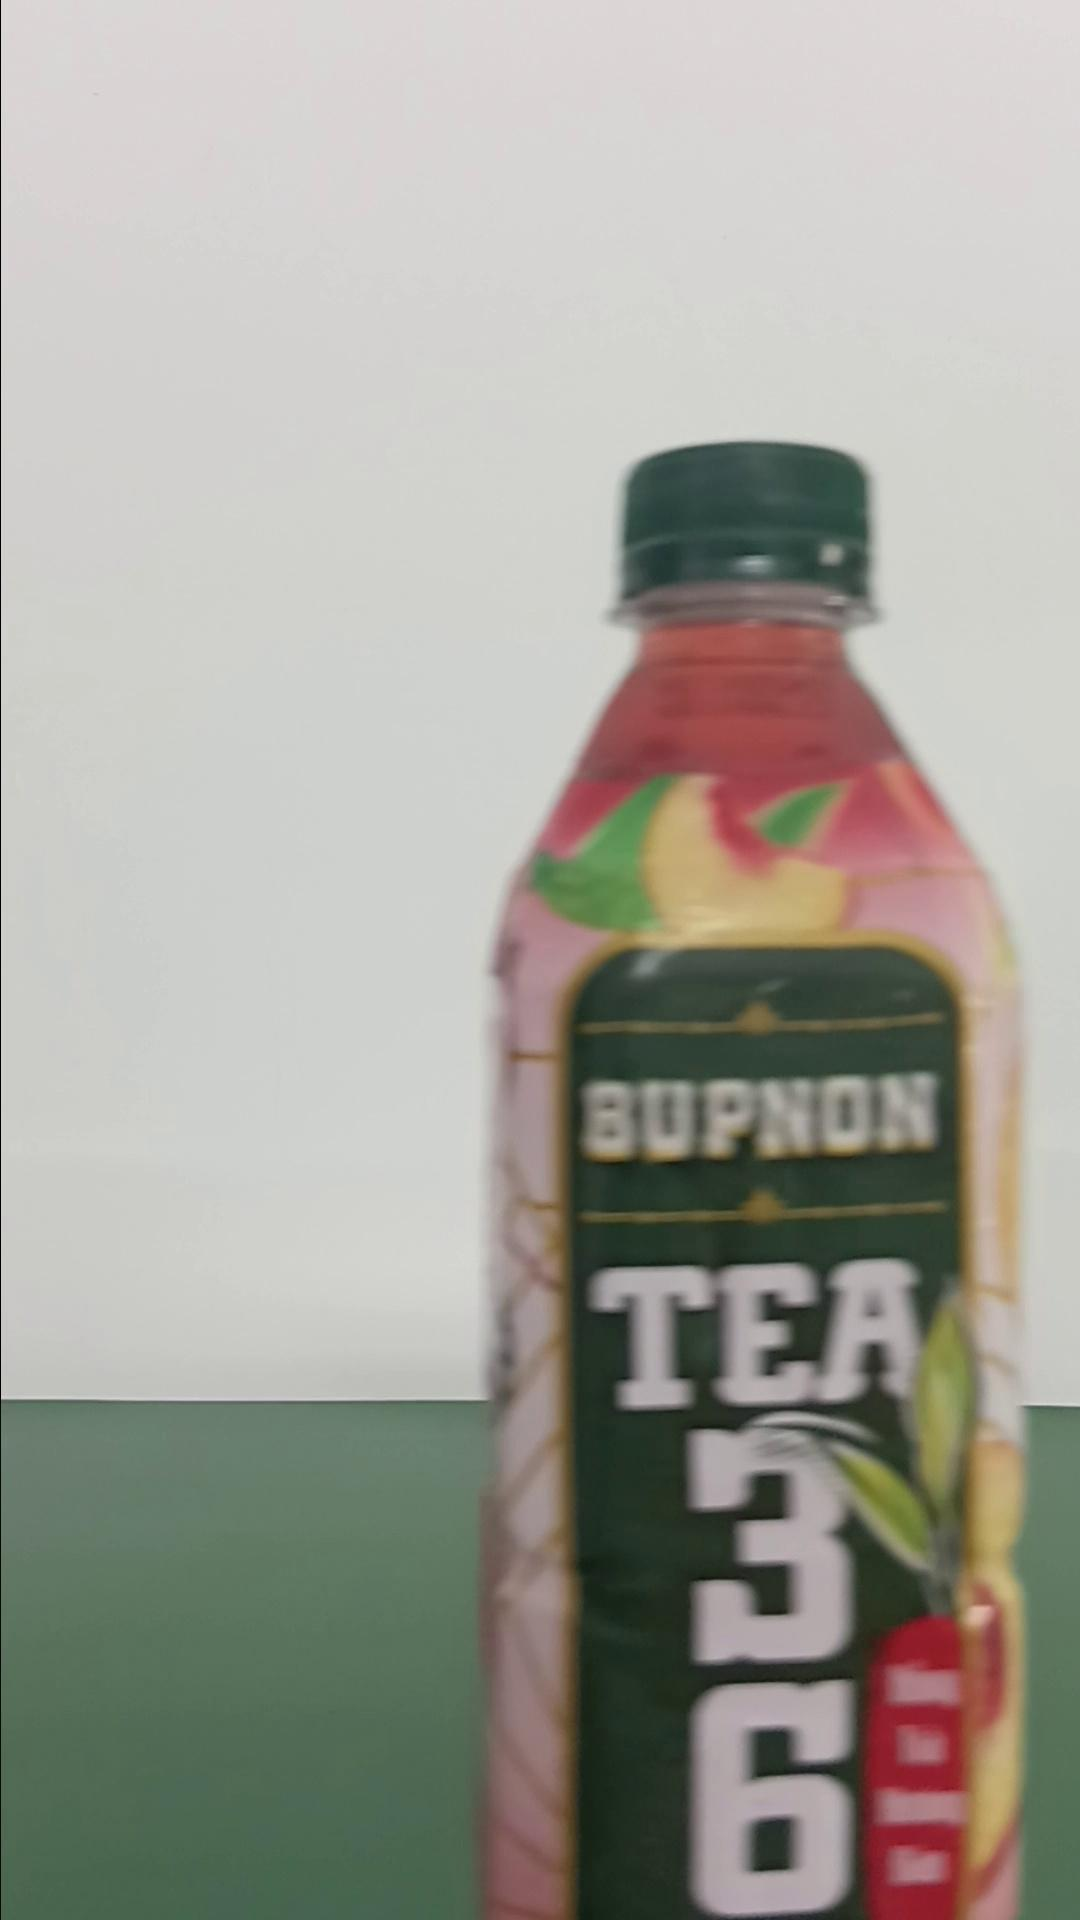khong loi: (473, 436, 1030, 1916)
